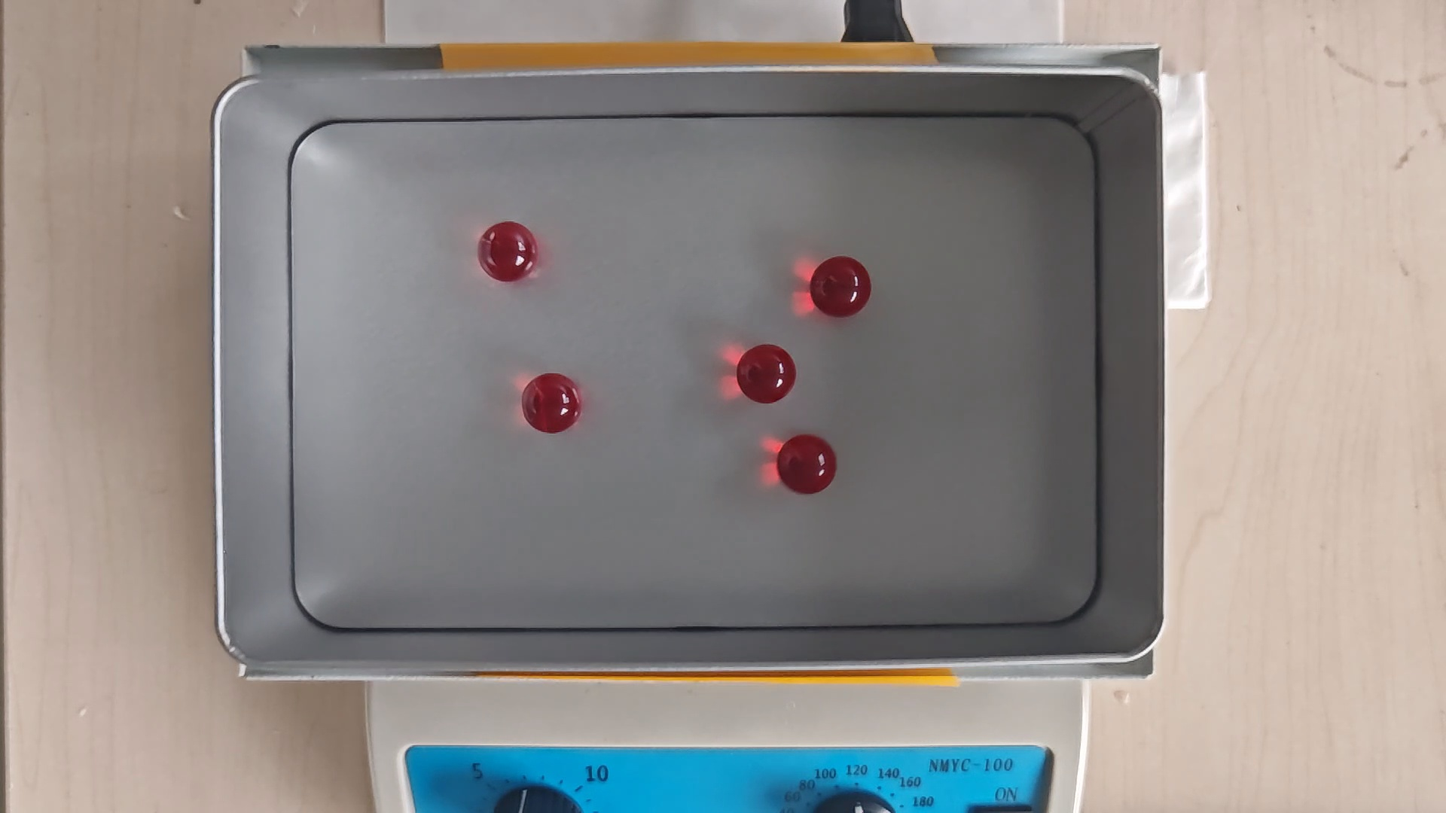ball: (520, 372, 581, 437), (811, 255, 872, 319), (478, 221, 537, 283), (738, 344, 796, 406), (778, 434, 836, 496)
container: (284, 110, 1098, 632)
